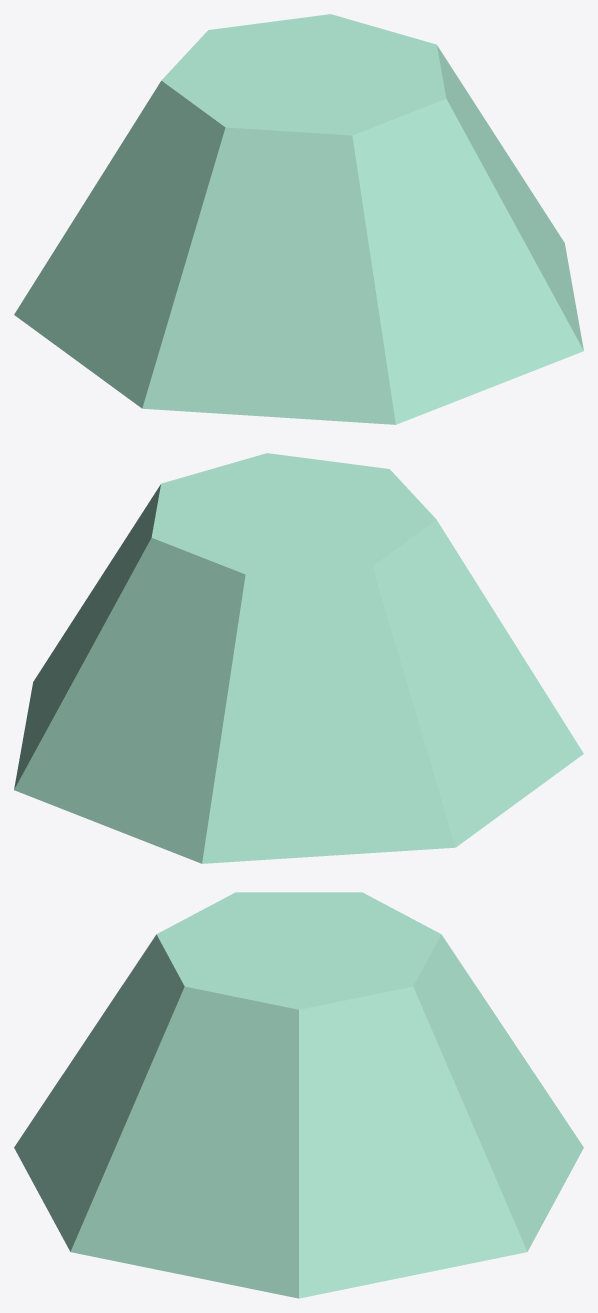
Rendered from glorb-rock.glb.
3 renders of one model, top to bottom at view 1: azimuth 30°, elevation 25°; view 2: azimuth 150°, elevation 25°; view 3: azimuth 270°, elevation 25°, orthographic.
Visible parts, largest first — view 1: Mesh; view 2: Mesh; view 3: Mesh.
Boxes of the visible parts, x1,y1,x2,y2 form: Mesh: (14, 14, 583, 424); Mesh: (14, 453, 583, 863); Mesh: (14, 892, 583, 1298).
Size of the model in its own units: 1.33 by 0.6 by 1.36.
